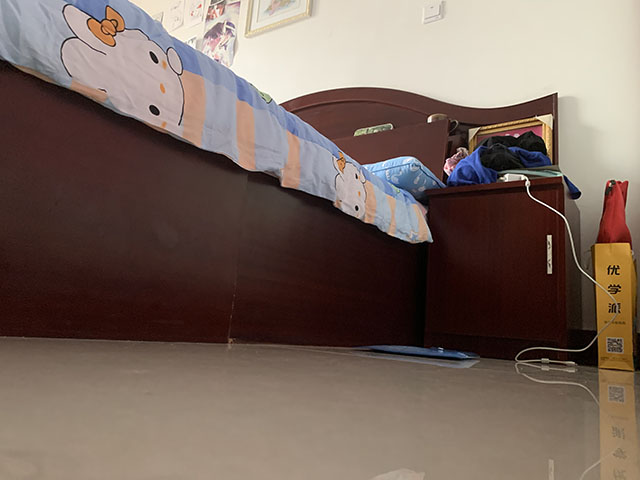bed: (1, 1, 561, 351)
cabinet: (423, 175, 582, 365)
wire: (499, 172, 620, 369)
